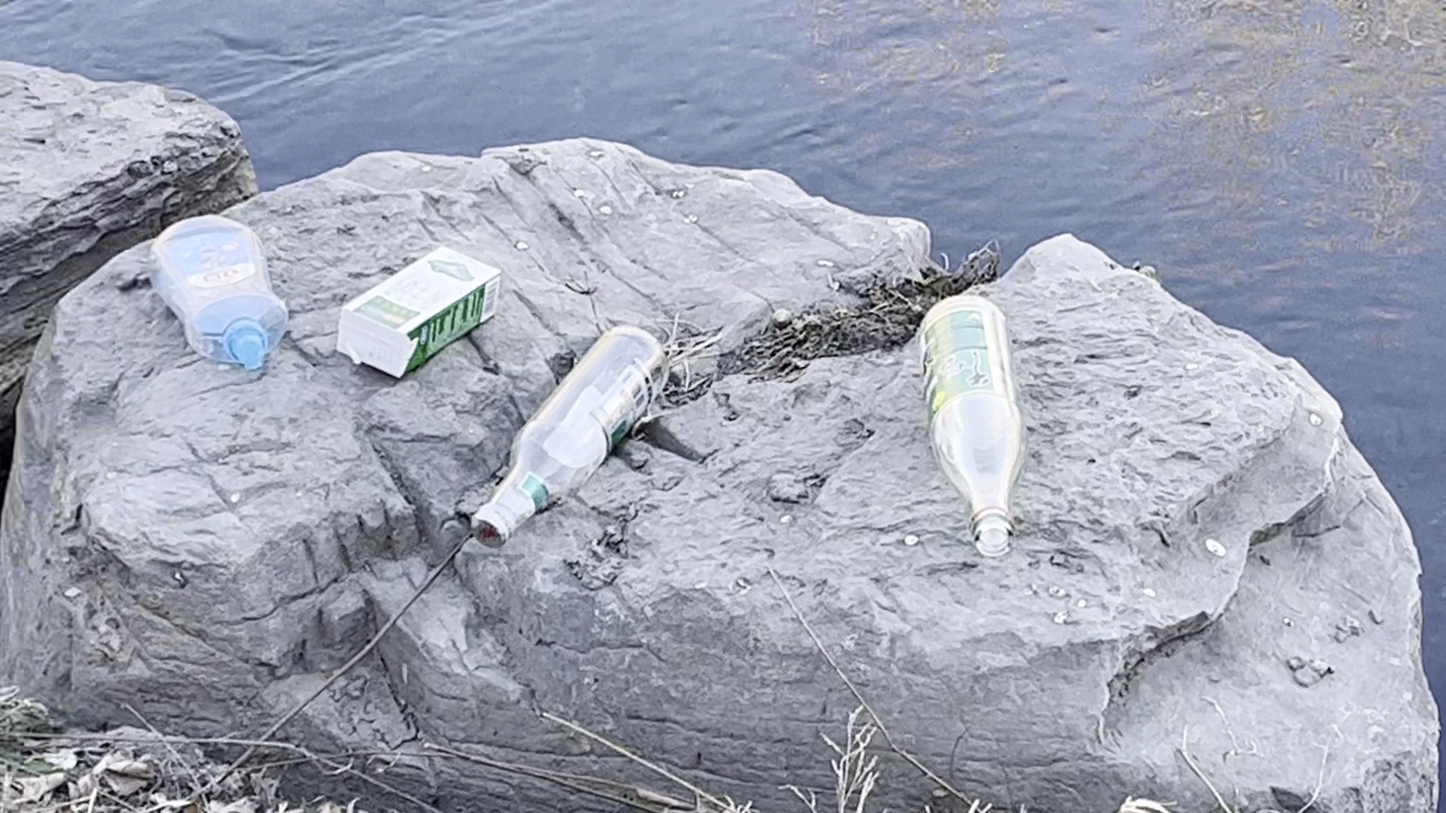floater: (471, 325, 669, 544), (916, 290, 1024, 558), (151, 210, 289, 368), (336, 247, 502, 376)
